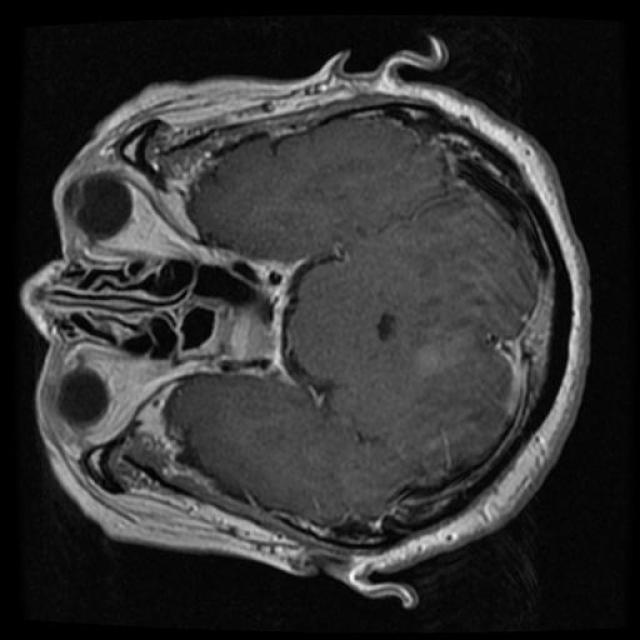Pituitary: (201, 256, 309, 384)
